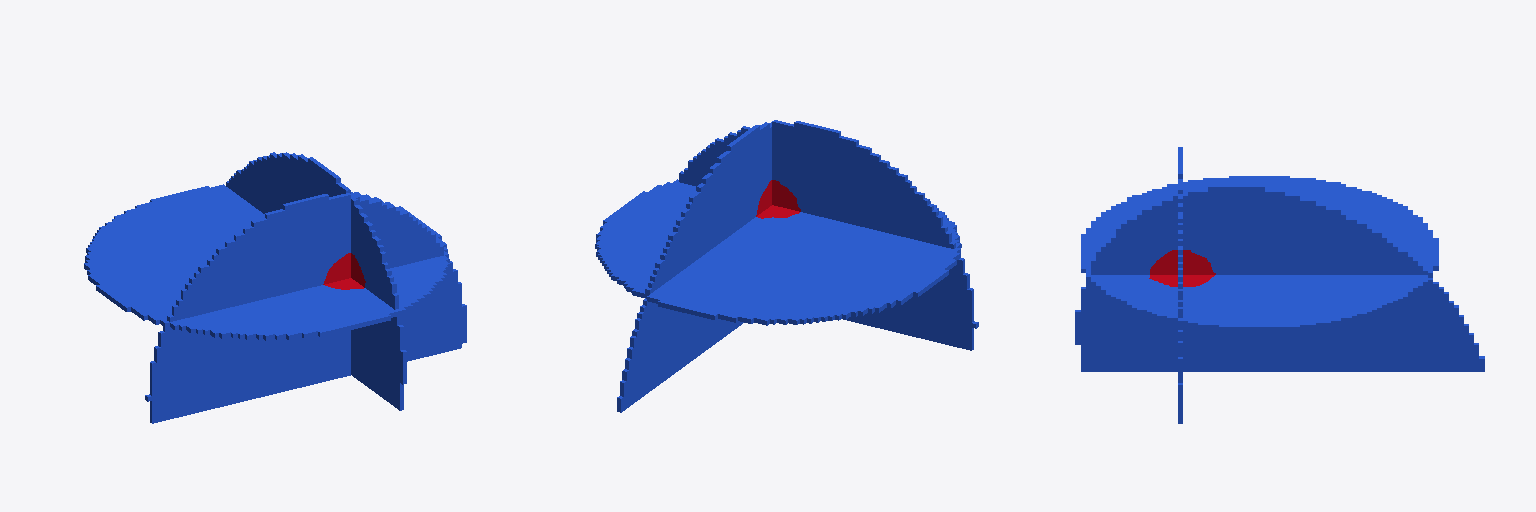
The picture shows the model from 3 angles: view 1: azimuth 30°, elevation 25°; view 2: azimuth 150°, elevation 25°; view 3: azimuth 270°, elevation 25°; orthographic projection.
Bounding box in the file's own units: 1.86 × 1.03 × 2.06.
Materials: 1 (1 with a texture image).